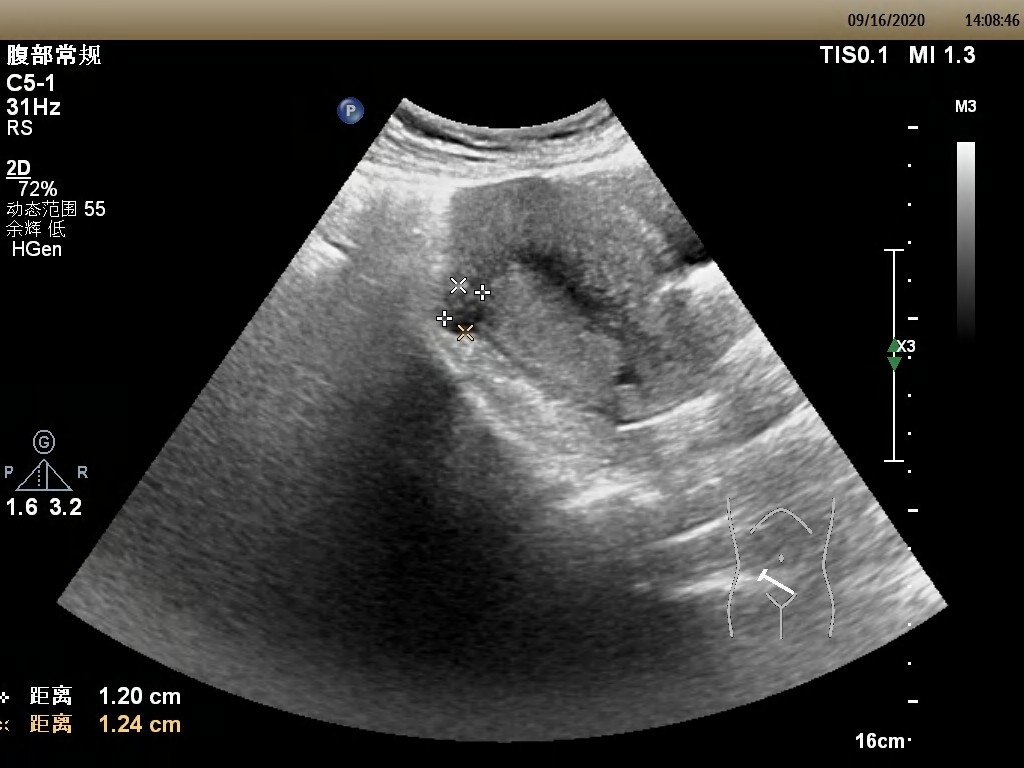肌瘤: (444, 284, 484, 334)
